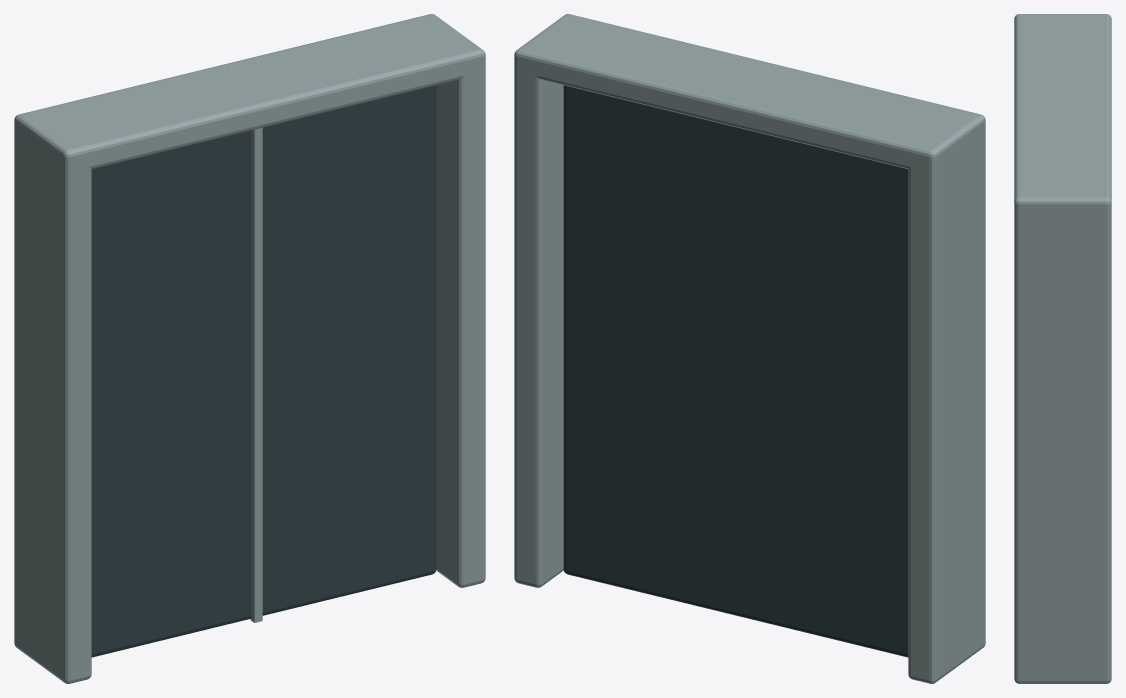
The model's file is entrance.glb.
3 views of the same model, side by side, from view 1: azimuth 30°, elevation 25°; view 2: azimuth 150°, elevation 25°; view 3: azimuth 270°, elevation 25° (orthographic). The views are drawn at different scales.
Visible parts, largest first — view 1: glazed-doors, frame-post, frame-header, frame-post.001, door-mullion; view 2: glazed-doors, frame-post, frame-header, frame-post.001; view 3: frame-post.001, frame-header.
Part boxes in pixels (x1,y1,x2,y2): glazed-doors: (91, 85, 436, 657); frame-post: (14, 110, 91, 683); frame-header: (14, 14, 484, 171); frame-post.001: (412, 14, 485, 587); door-mullion: (250, 127, 262, 622); glazed-doors: (563, 85, 908, 657); frame-post: (908, 110, 985, 683); frame-header: (515, 14, 984, 171); frame-post.001: (514, 14, 587, 587); frame-post.001: (1014, 190, 1111, 683); frame-header: (1014, 14, 1111, 217).
Bounding box in the file's own units: 1.82 × 2.2 × 0.4.
